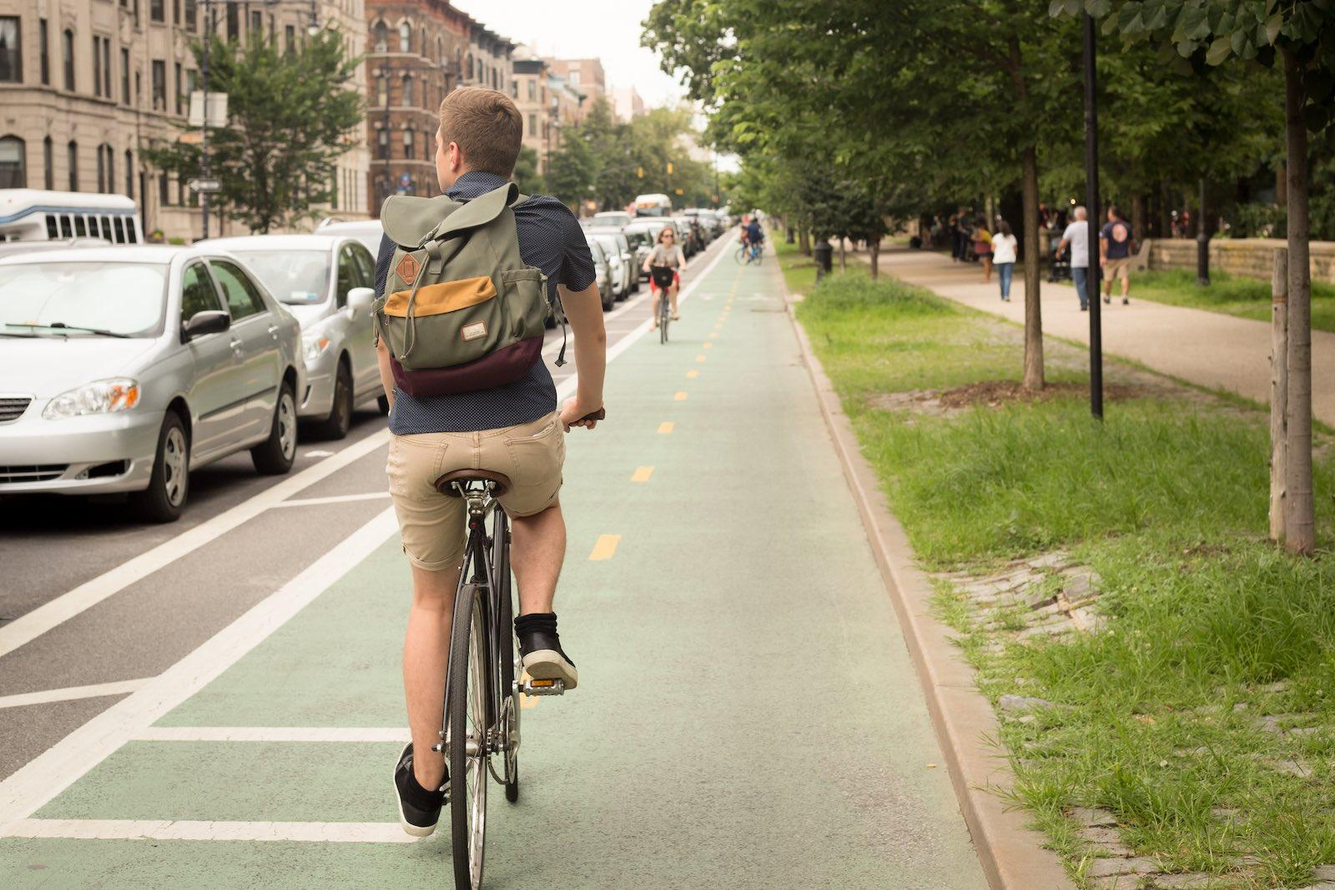nohelmet: (428, 83, 526, 202), (659, 227, 676, 247), (1106, 205, 1122, 222), (1073, 205, 1087, 222), (998, 221, 1011, 236)
